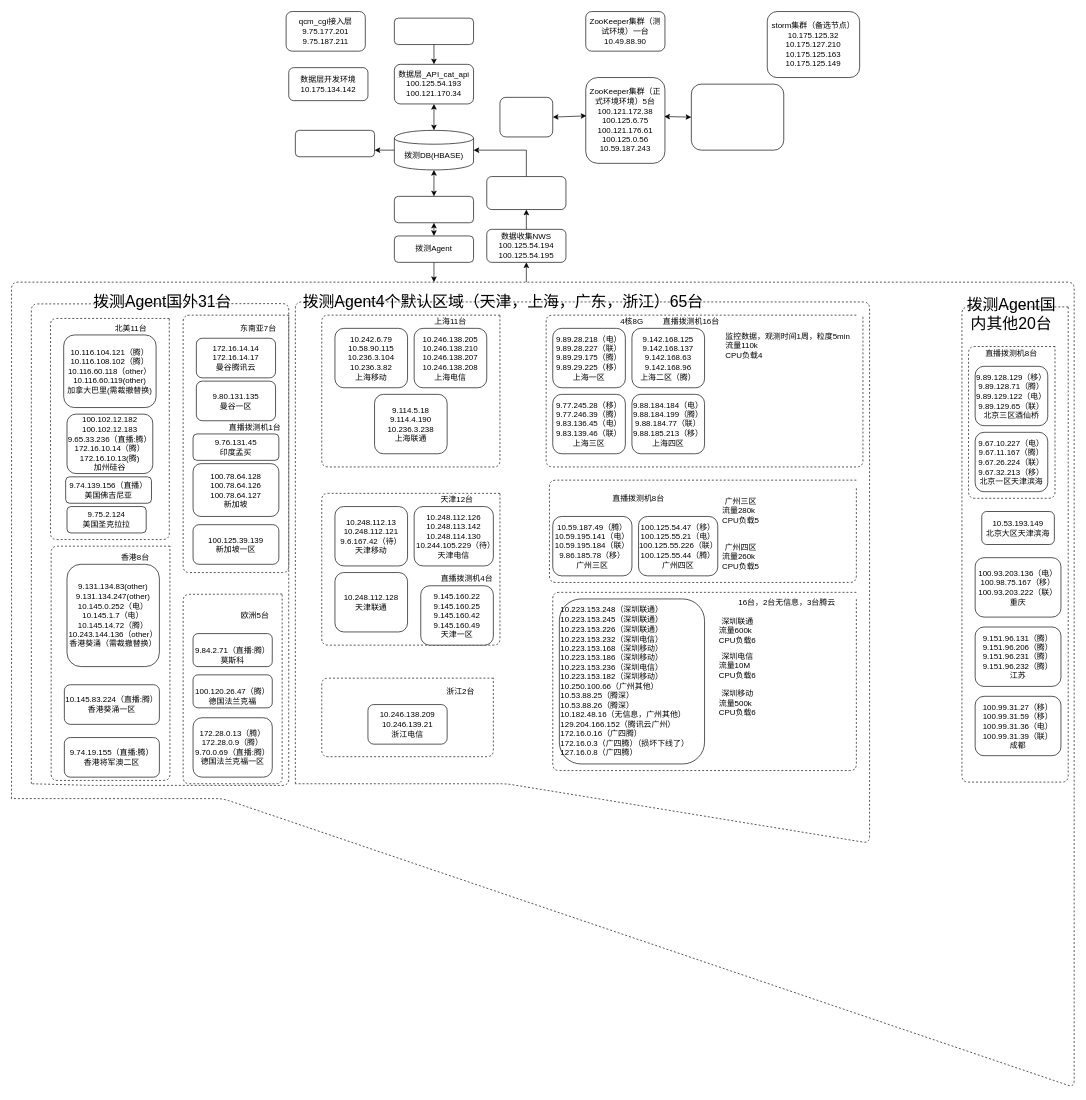
Some shapes in this 1086 by 1100 pixel diagram are drawn without their labels. The shapes that lost their labels are listed below. From the top down, each one's centre as x and y in pixels, then its label:
At point (434, 31): "前台首页php".
At point (526, 117): "Nimbus".
At point (737, 116): "storm集群（Suprvisor）（正式环境） 9.71.226.171 9.71.227.174 9.71.226.100 9.71.227.74".
At point (335, 143): "告警分析python".
At point (434, 209): "拨测SVR".
At point (526, 193): "数据处理CDP".
